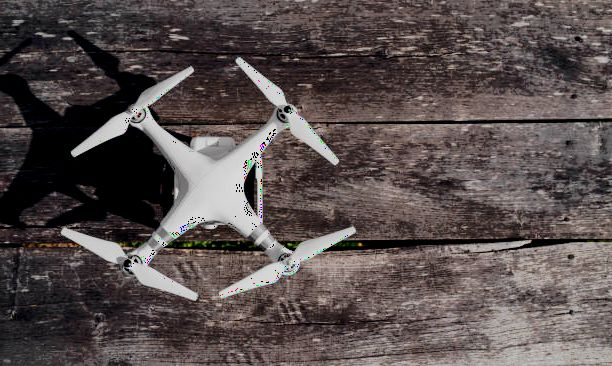Drone: (64, 55, 357, 301)
